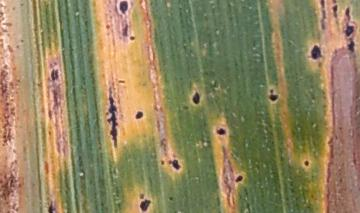tarspot: (105, 90, 119, 148), (319, 1, 328, 28), (117, 1, 129, 16), (310, 43, 321, 59), (48, 67, 60, 80), (140, 200, 151, 212), (168, 160, 181, 170), (345, 23, 354, 37), (122, 22, 129, 38), (192, 91, 200, 105), (343, 4, 351, 18), (133, 110, 144, 120), (216, 126, 226, 136), (332, 4, 339, 18), (348, 39, 355, 53), (47, 200, 54, 213), (234, 173, 243, 183), (269, 94, 280, 101), (117, 78, 126, 84), (303, 159, 309, 167), (269, 87, 275, 95), (130, 34, 136, 41), (19, 37, 25, 44), (139, 193, 145, 199), (105, 23, 111, 29), (168, 196, 174, 201), (161, 159, 165, 166), (331, 1, 337, 5)
